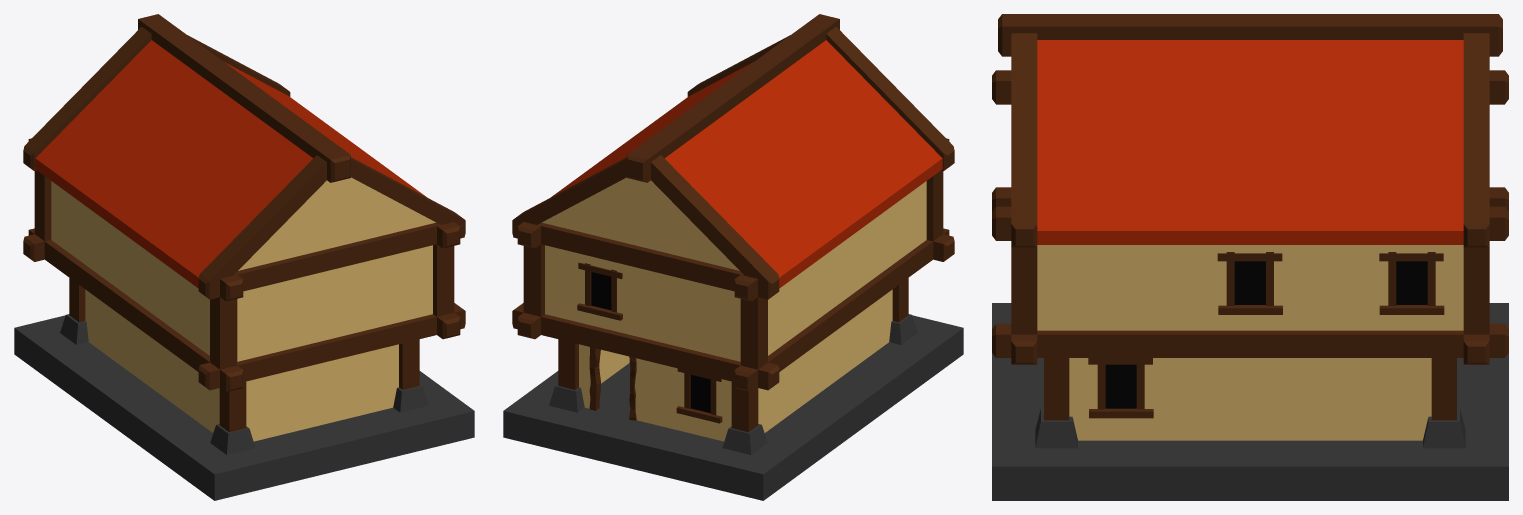
Rendered from MBS_City_House03_01.fbx.
The picture shows the model from 3 angles, left to right: view 1: azimuth 30°, elevation 25°; view 2: azimuth 150°, elevation 25°; view 3: azimuth 270°, elevation 25°; orthographic projection. The views are drawn at different scales.
Parts seen in each view (by area): view 1: Cube.449; view 2: Cube.449; view 3: Cube.449.
Part boxes in pixels (x1=…): Cube.449: x1=14, y1=14, x2=474, y2=500; Cube.449: x1=503, y1=14, x2=963, y2=500; Cube.449: x1=992, y1=14, x2=1508, y2=500.
Size of the model in its own units: 1200 by 1362 by 1600.
